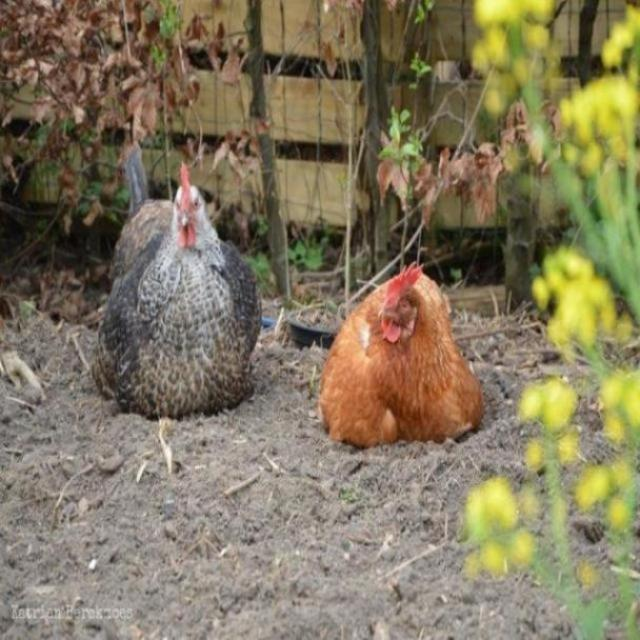Chicken: (89, 143, 264, 421), (316, 267, 489, 452)
